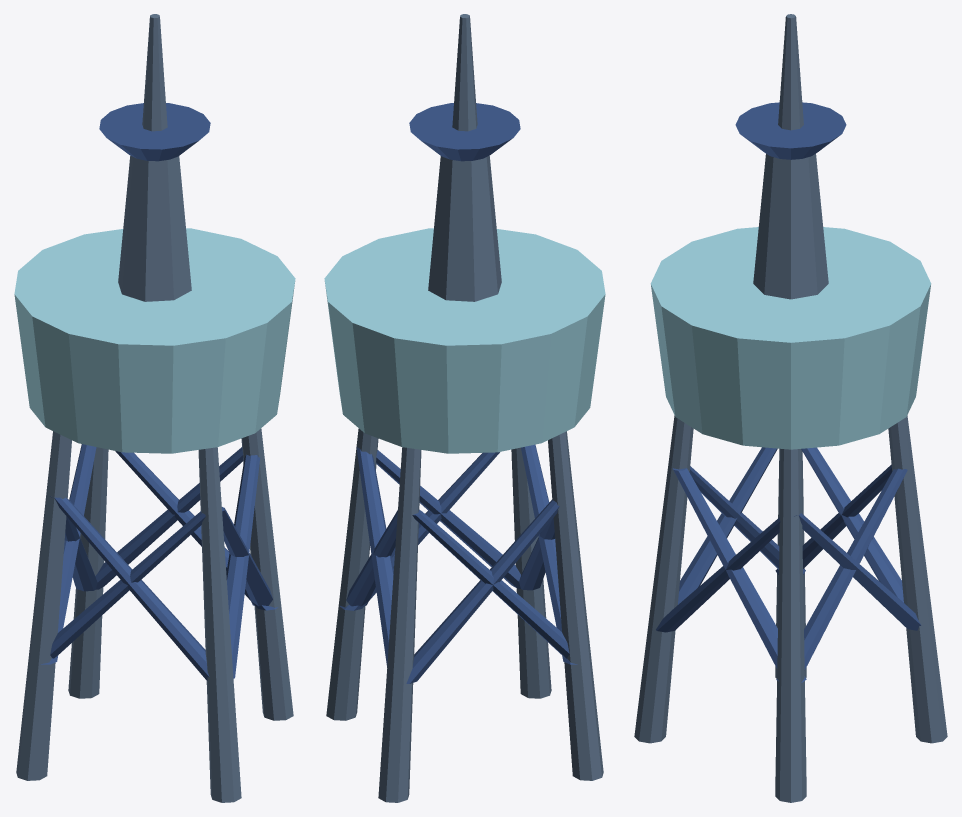
File: RadioTower.fbx
3 views of the same model, side by side, from view 1: azimuth 30°, elevation 25°; view 2: azimuth 150°, elevation 25°; view 3: azimuth 270°, elevation 25° (orthographic).
Visible parts, largest first — view 1: Windows, Supports, Cross, Pillar.001, Antenna, Top; view 2: Windows, Supports, Cross, Pillar.001, Antenna, Top; view 3: Windows, Supports, Cross, Pillar.001, Antenna, Top.
Boxes of the visible parts, left/top/right/bottom form: Windows: left=14, top=228, right=295, bottom=453; Supports: left=16, top=428, right=293, bottom=802; Cross: left=40, top=444, right=277, bottom=680; Pillar.001: left=118, top=155, right=191, bottom=301; Antenna: left=99, top=103, right=210, bottom=161; Top: left=142, top=14, right=167, bottom=131; Windows: left=324, top=228, right=605, bottom=453; Supports: left=326, top=428, right=603, bottom=802; Cross: left=340, top=444, right=577, bottom=683; Pillar.001: left=428, top=155, right=501, bottom=301; Antenna: left=409, top=103, right=520, bottom=161; Top: left=452, top=14, right=477, bottom=131; Windows: left=650, top=227, right=931, bottom=449; Supports: left=634, top=415, right=947, bottom=802; Cross: left=656, top=447, right=921, bottom=682; Pillar.001: left=753, top=153, right=828, bottom=299; Antenna: left=735, top=102, right=846, bottom=159; Top: left=778, top=14, right=803, bottom=130.
Size of the model in its own units: 2506 by 6360 by 2506.
